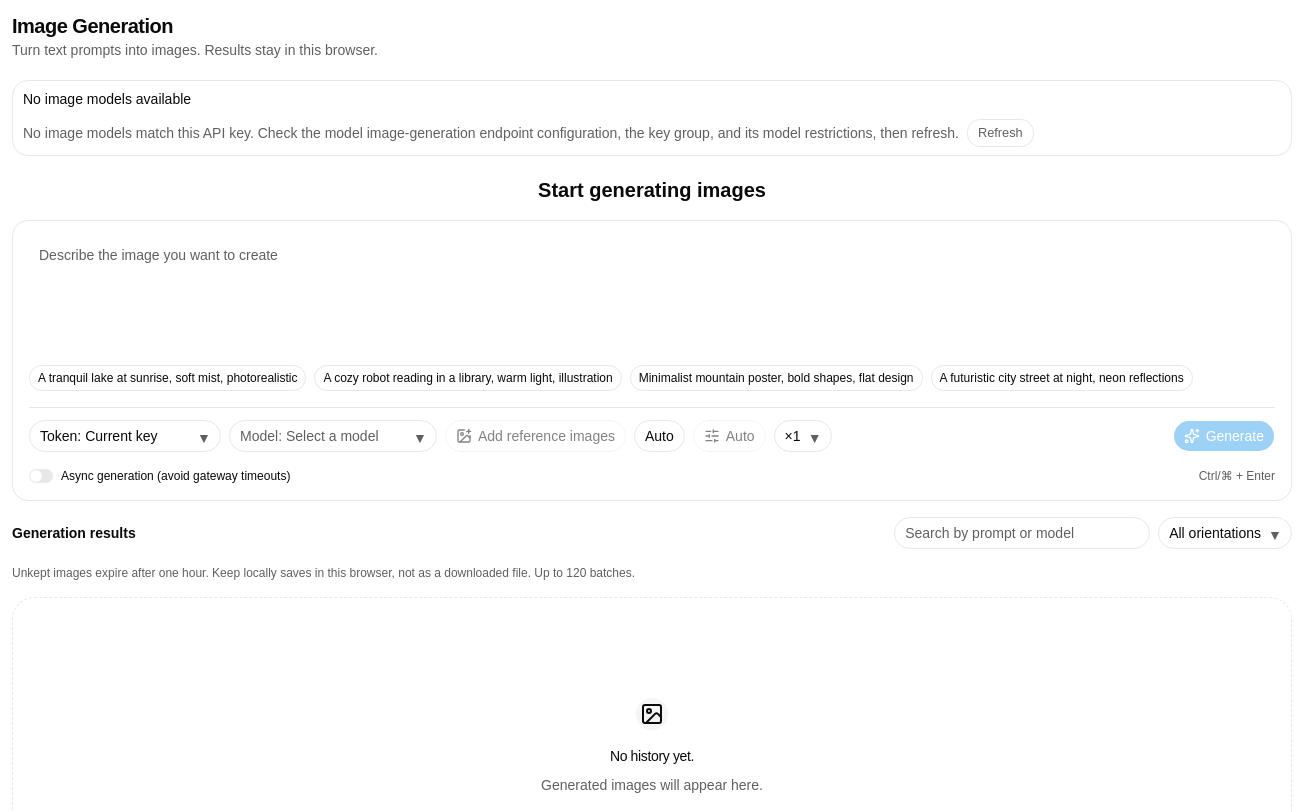
Test: refresh reloads pricing, token limits and group models after configuration is repaired
The image size is (1304, 812).
Click the button "Refresh" at (1000, 133), box [967, 119, 1034, 147]
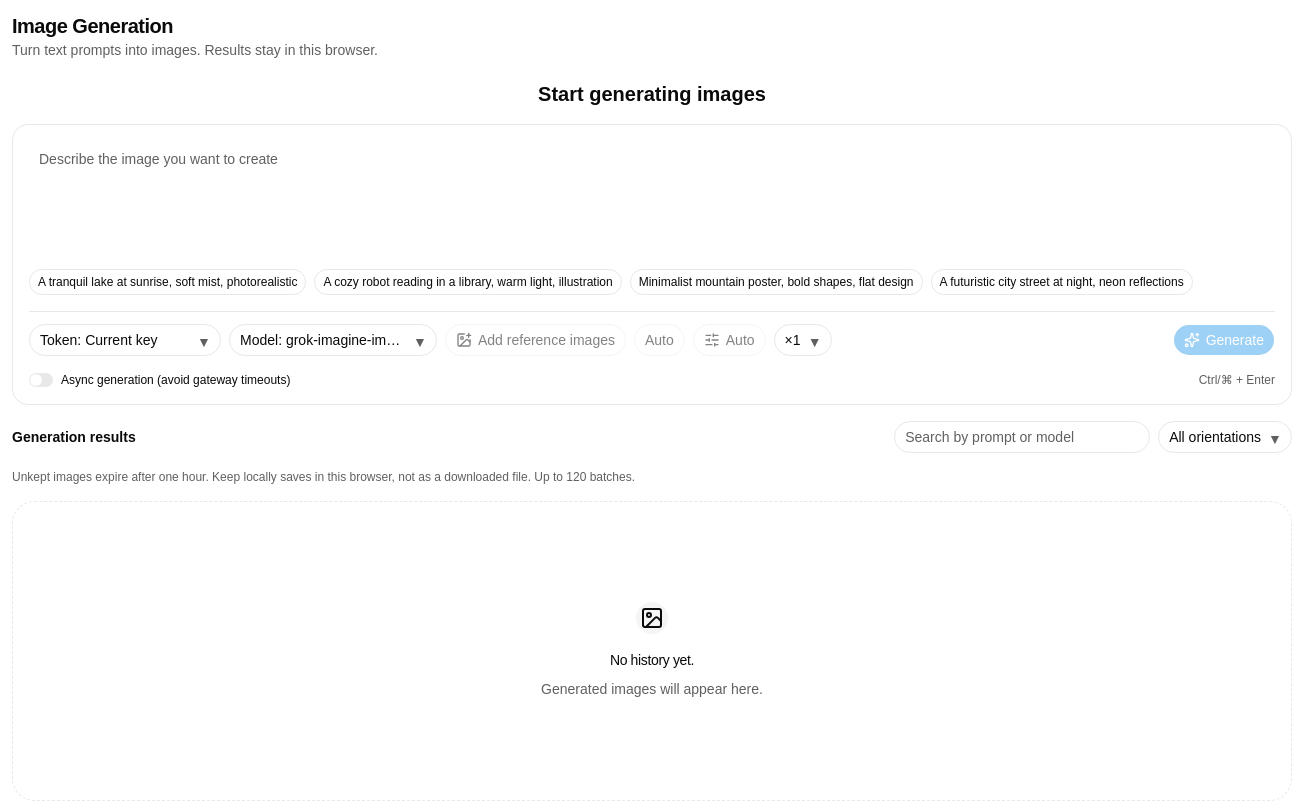
Check: the dropdown labelled "Model" shows "grok-imagine-image-2.0", box [229, 324, 437, 356]
Check: the text "No image models match this API key. Check the model image-generation endpoint configuration, the key group, and its mode" is gone
Type "A lake" into the text box named "Prompt" at (652, 201), box [29, 141, 1275, 261]
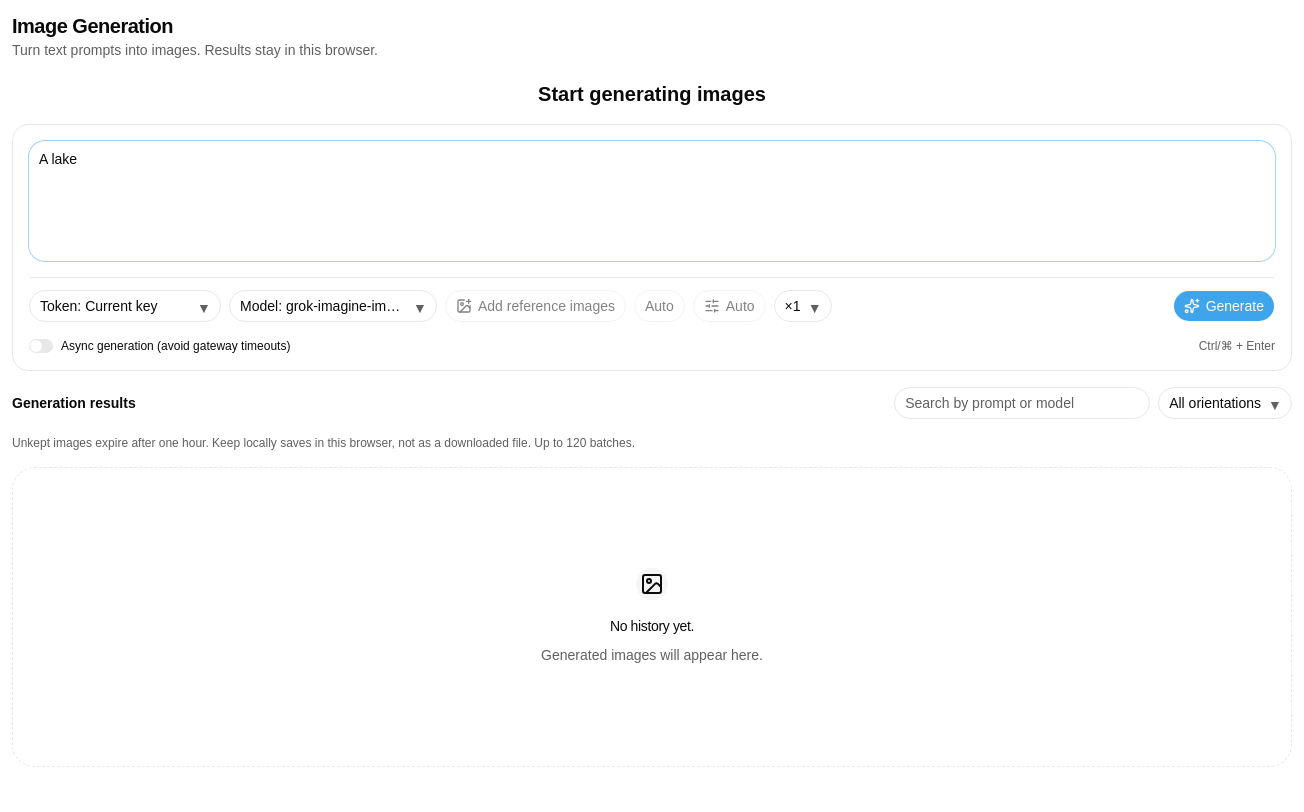
Check: the button "Generate" is enabled, box [1173, 290, 1275, 322]
